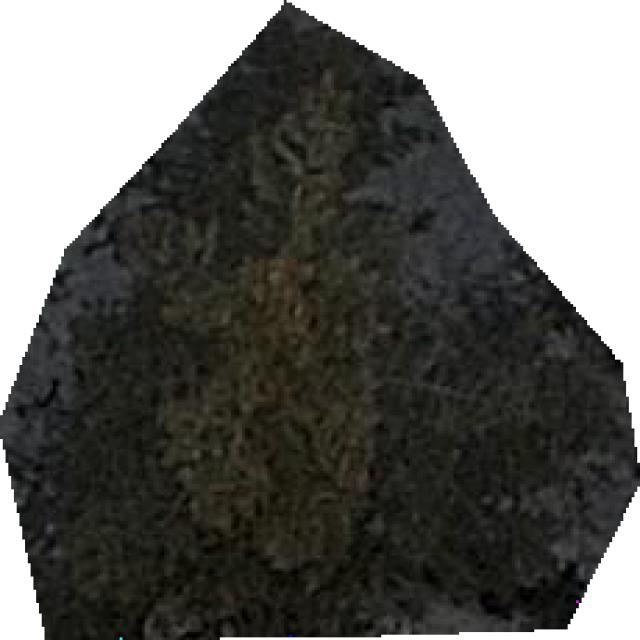spruce: (0, 3, 637, 637)
